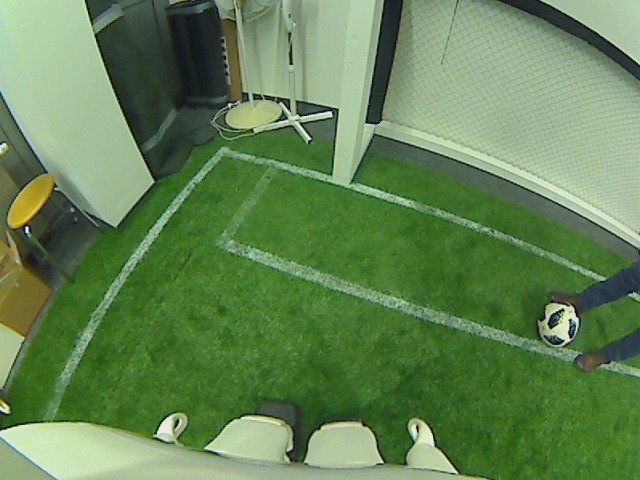ball: (537, 301, 580, 350)
